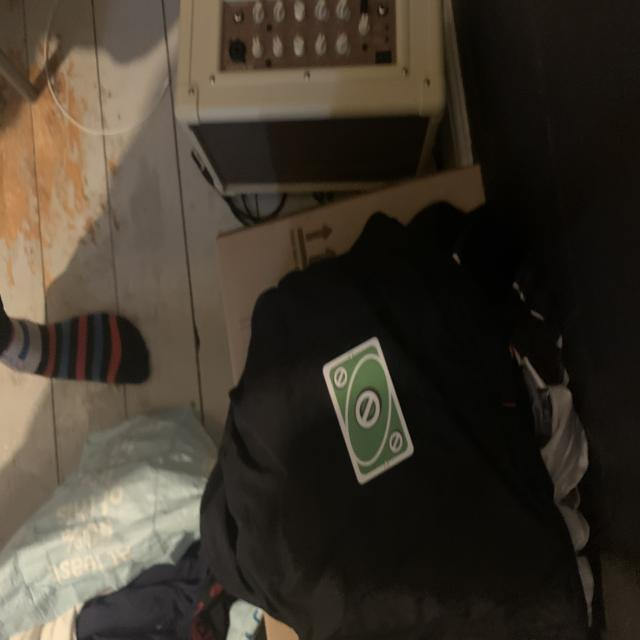lgreenskip-20: (331, 364, 349, 390)
